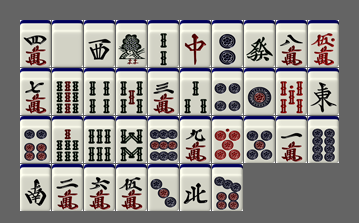0m: (308, 20, 339, 67)
0p: (212, 116, 243, 163)
0s: (276, 68, 307, 115)
1m: (276, 116, 307, 163)
1p: (244, 68, 275, 115)
1s: (116, 20, 147, 67)
1z: (308, 68, 339, 115)
2m: (52, 164, 83, 211)
2p: (212, 20, 243, 67)
2s: (148, 20, 179, 67)
2z: (20, 164, 51, 211)
3m: (148, 68, 179, 115)
3p: (148, 164, 179, 211)
3s: (180, 68, 211, 115)
3z: (84, 20, 115, 67)
4m: (20, 20, 51, 67)
4p: (212, 68, 243, 115)
4s: (84, 68, 115, 115)
4z: (180, 164, 211, 211)
5m: (116, 164, 147, 211)
5p: (244, 116, 275, 163)
5s: (116, 68, 147, 115)
5z: (52, 20, 83, 67)
6m: (84, 164, 115, 211)
6p: (20, 116, 51, 163)
6s: (84, 116, 115, 163)
6z: (244, 20, 275, 67)
7m: (20, 68, 51, 115)
7p: (212, 164, 243, 211)
7s: (52, 116, 83, 163)
7z: (180, 20, 211, 67)
8m: (276, 20, 307, 67)
8p: (308, 116, 339, 163)
8s: (116, 116, 147, 163)
9m: (180, 116, 211, 163)
9p: (148, 116, 179, 163)
9s: (52, 68, 83, 115)
